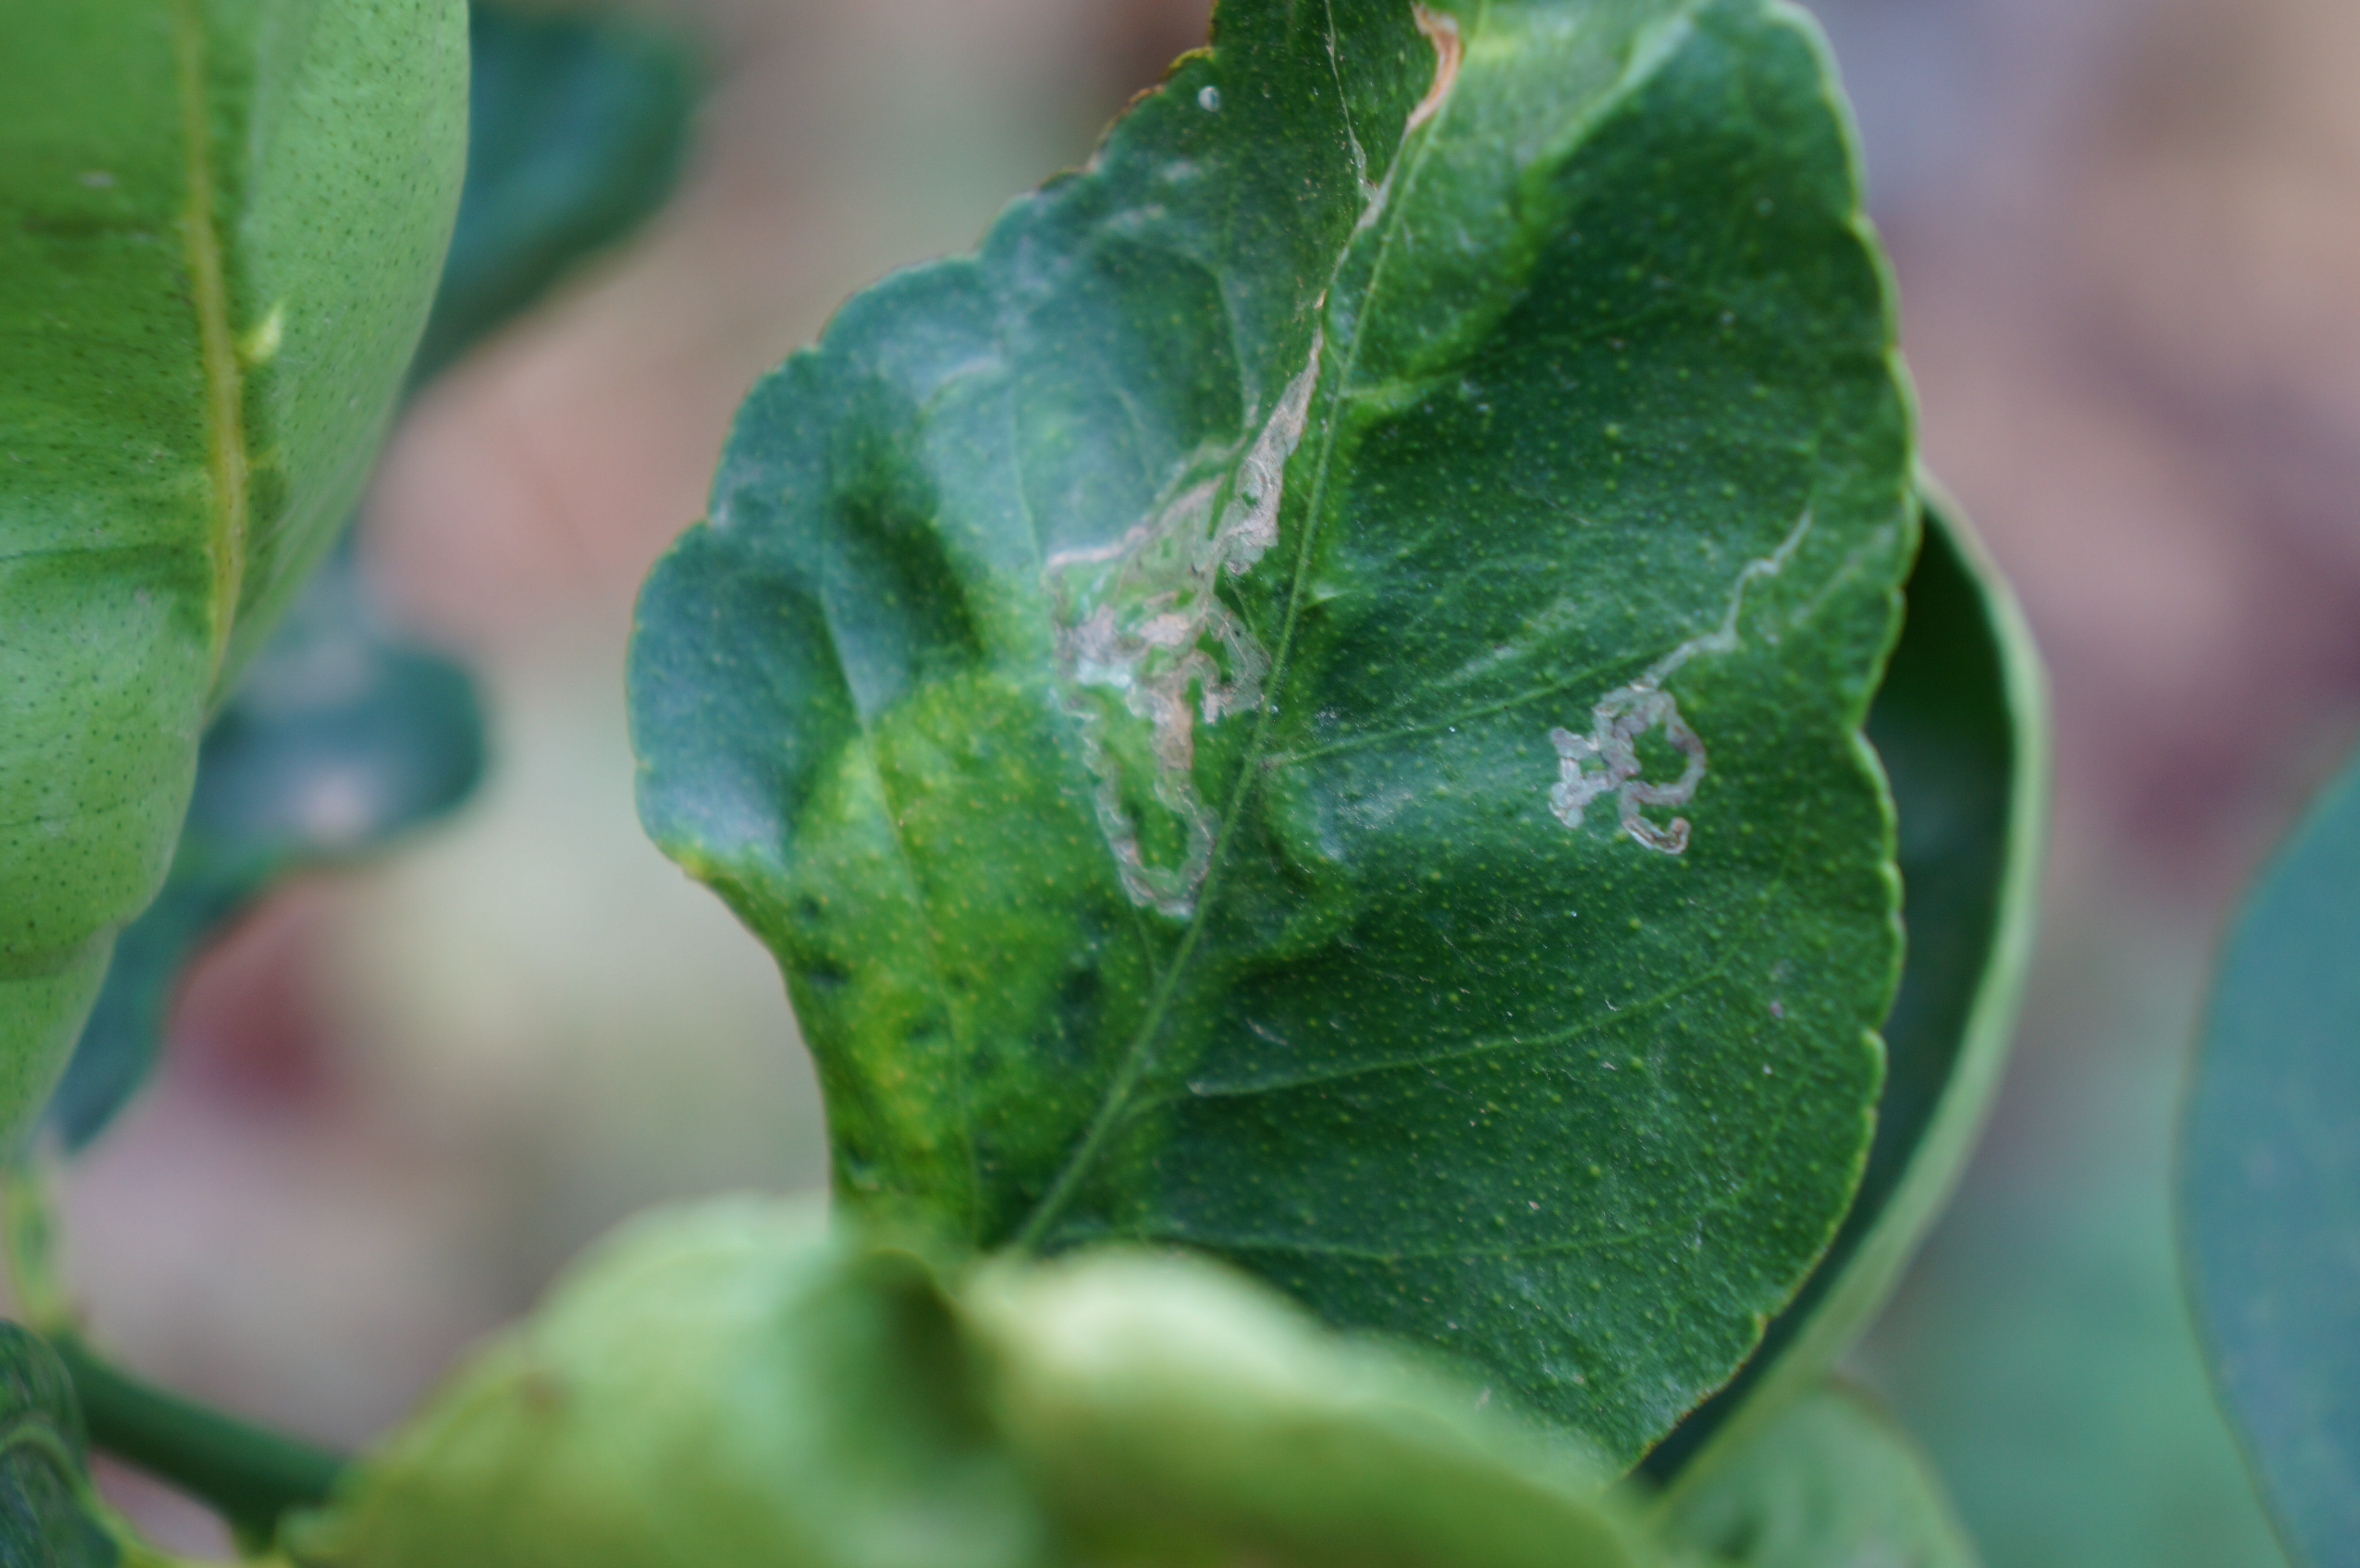damage: (1034, 231, 1372, 950), (1534, 453, 1828, 877)
